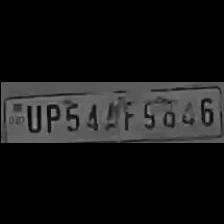4: (82, 98, 100, 132), (178, 95, 195, 127)
5: (139, 94, 157, 130), (61, 98, 80, 132)
6: (196, 92, 216, 125)
F: (118, 96, 136, 130)
P: (41, 100, 59, 134)
U: (22, 100, 41, 134)
